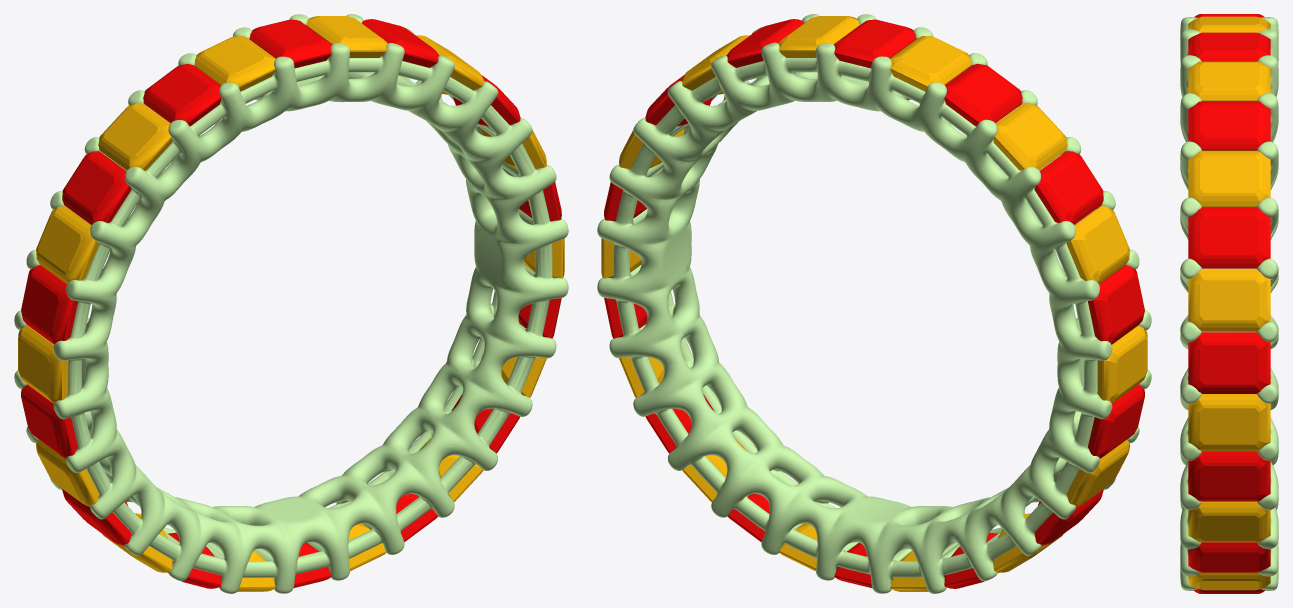
File: TCC-RN-CR-32200-Emerald-Eternity-10.glb
The picture shows the model from 3 angles, left to right: view 1: azimuth 30°, elevation 25°; view 2: azimuth 150°, elevation 25°; view 3: azimuth 270°, elevation 25°; orthographic projection. The views are drawn at different scales.
Visible parts, largest first — view 1: Metal03, Diamond Band01.013, Diamond Band02.012, Diamond Band02.011, Diamond Band01.011, Diamond Band01.010, Diamond Band02.013, Diamond Band02.010, Diamond Band01.012, Diamond Band01.009, Diamond Band02, Diamond Band02.009 (+8 smaller); view 2: Metal03, Diamond Band01.013, Diamond Band02.012, Diamond Band02.011, Diamond Band01.011, Diamond Band01.010, Diamond Band02.013, Diamond Band02.010, Diamond Band01.012, Diamond Band01.009, Diamond Band02, Diamond Band02.009 (+10 smaller); view 3: Metal03, Diamond Band02.002, Diamond Band01.002, Diamond Band01.001, Diamond Band02.003, Diamond Band02.001, Diamond Band01.003, Diamond Band01, Diamond Band02.004, Diamond Band02, Diamond Band01.004, Diamond Band01.012 (+4 smaller).
Boxes of the visible parts, left/top/right/bottom form: Metal03: left=14, top=14, right=568, bottom=593; Diamond Band01.013: left=62, top=151, right=131, bottom=224; Diamond Band02.012: left=98, top=102, right=172, bottom=170; Diamond Band02.011: left=36, top=206, right=99, bottom=283; Diamond Band01.011: left=143, top=63, right=221, bottom=126; Diamond Band01.010: left=21, top=265, right=77, bottom=344; Diamond Band02.013: left=194, top=36, right=275, bottom=91; Diamond Band02.010: left=18, top=325, right=68, bottom=403; Diamond Band01.012: left=249, top=19, right=331, bottom=68; Diamond Band01.009: left=21, top=384, right=77, bottom=458; Diamond Band02: left=306, top=16, right=387, bottom=57; Diamond Band02.009: left=36, top=439, right=99, bottom=506; Metal03: left=597, top=14, right=1151, bottom=593; Diamond Band01.013: left=1034, top=151, right=1103, bottom=224; Diamond Band02.012: left=993, top=102, right=1067, bottom=170; Diamond Band02.011: left=1066, top=205, right=1129, bottom=283; Diamond Band01.011: left=944, top=63, right=1022, bottom=126; Diamond Band01.010: left=1088, top=265, right=1144, bottom=344; Diamond Band02.013: left=890, top=36, right=971, bottom=91; Diamond Band02.010: left=1097, top=325, right=1147, bottom=403; Diamond Band01.012: left=834, top=19, right=916, bottom=68; Diamond Band01.009: left=1088, top=384, right=1144, bottom=458; Diamond Band02: left=778, top=16, right=859, bottom=57; Diamond Band02.009: left=1066, top=439, right=1129, bottom=506; Metal03: left=1180, top=17, right=1278, bottom=590; Diamond Band02.002: left=1188, top=269, right=1270, bottom=331; Diamond Band01.002: left=1188, top=332, right=1270, bottom=393; Diamond Band01.001: left=1188, top=207, right=1270, bottom=268; Diamond Band02.003: left=1188, top=394, right=1270, bottom=451; Diamond Band02.001: left=1188, top=150, right=1270, bottom=207; Diamond Band01.003: left=1188, top=451, right=1270, bottom=501; Diamond Band01: left=1188, top=101, right=1270, bottom=150; Diamond Band02.004: left=1188, top=501, right=1270, bottom=542; Diamond Band02: left=1188, top=61, right=1270, bottom=101; Diamond Band01.004: left=1188, top=542, right=1270, bottom=572; Diamond Band01.012: left=1188, top=32, right=1270, bottom=61.
Bounding box in the file's own units: 22.55 × 22.55 × 3.84.
